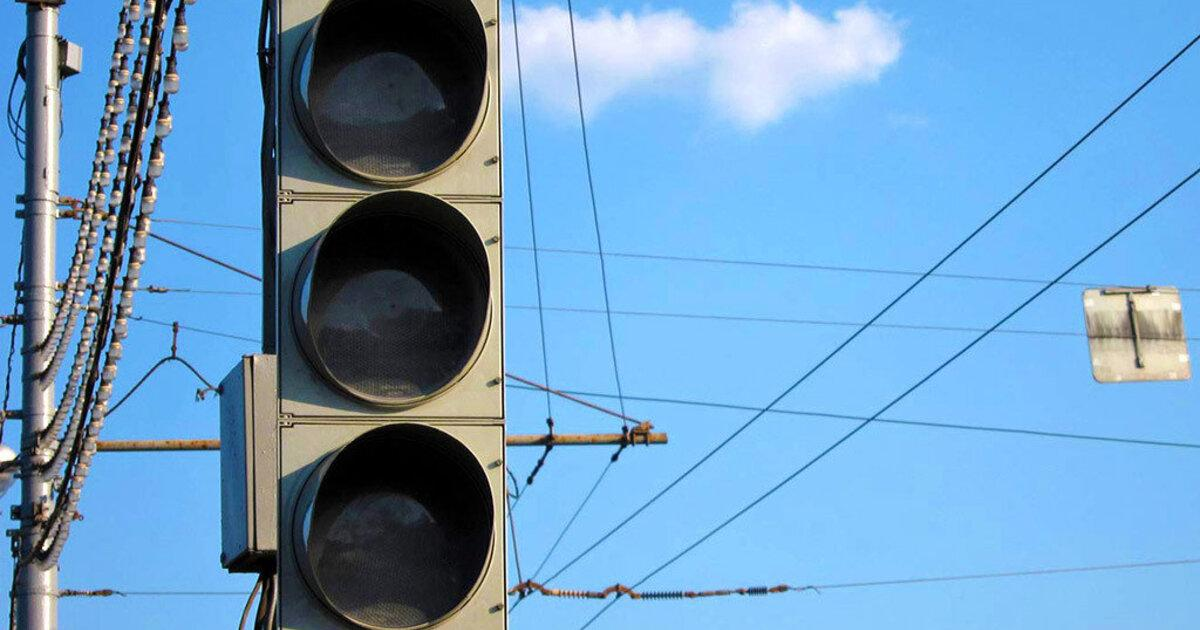off traffic light: (264, 0, 506, 629)
